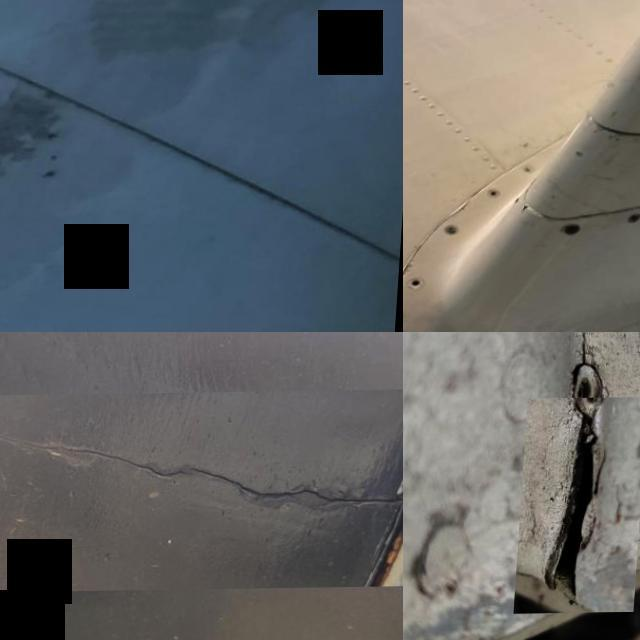Crack: (0, 390, 403, 593), (520, 398, 640, 614), (526, 204, 536, 217)
Missing_Fastener: (413, 278, 431, 292), (569, 224, 585, 236), (492, 190, 504, 198), (632, 214, 640, 223)
